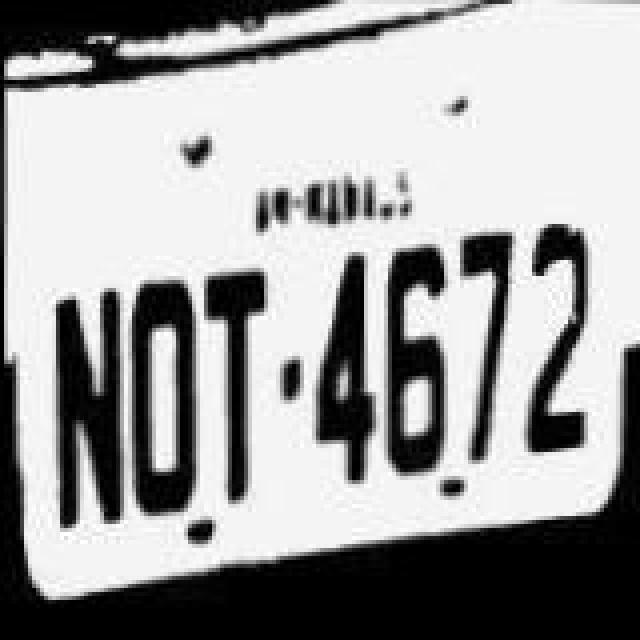2: (514, 210, 598, 470)
4: (310, 234, 386, 490)
6: (370, 234, 454, 486)
7: (444, 218, 524, 478)
N: (36, 274, 128, 534)
O: (112, 272, 204, 524)
T: (188, 258, 280, 510)
